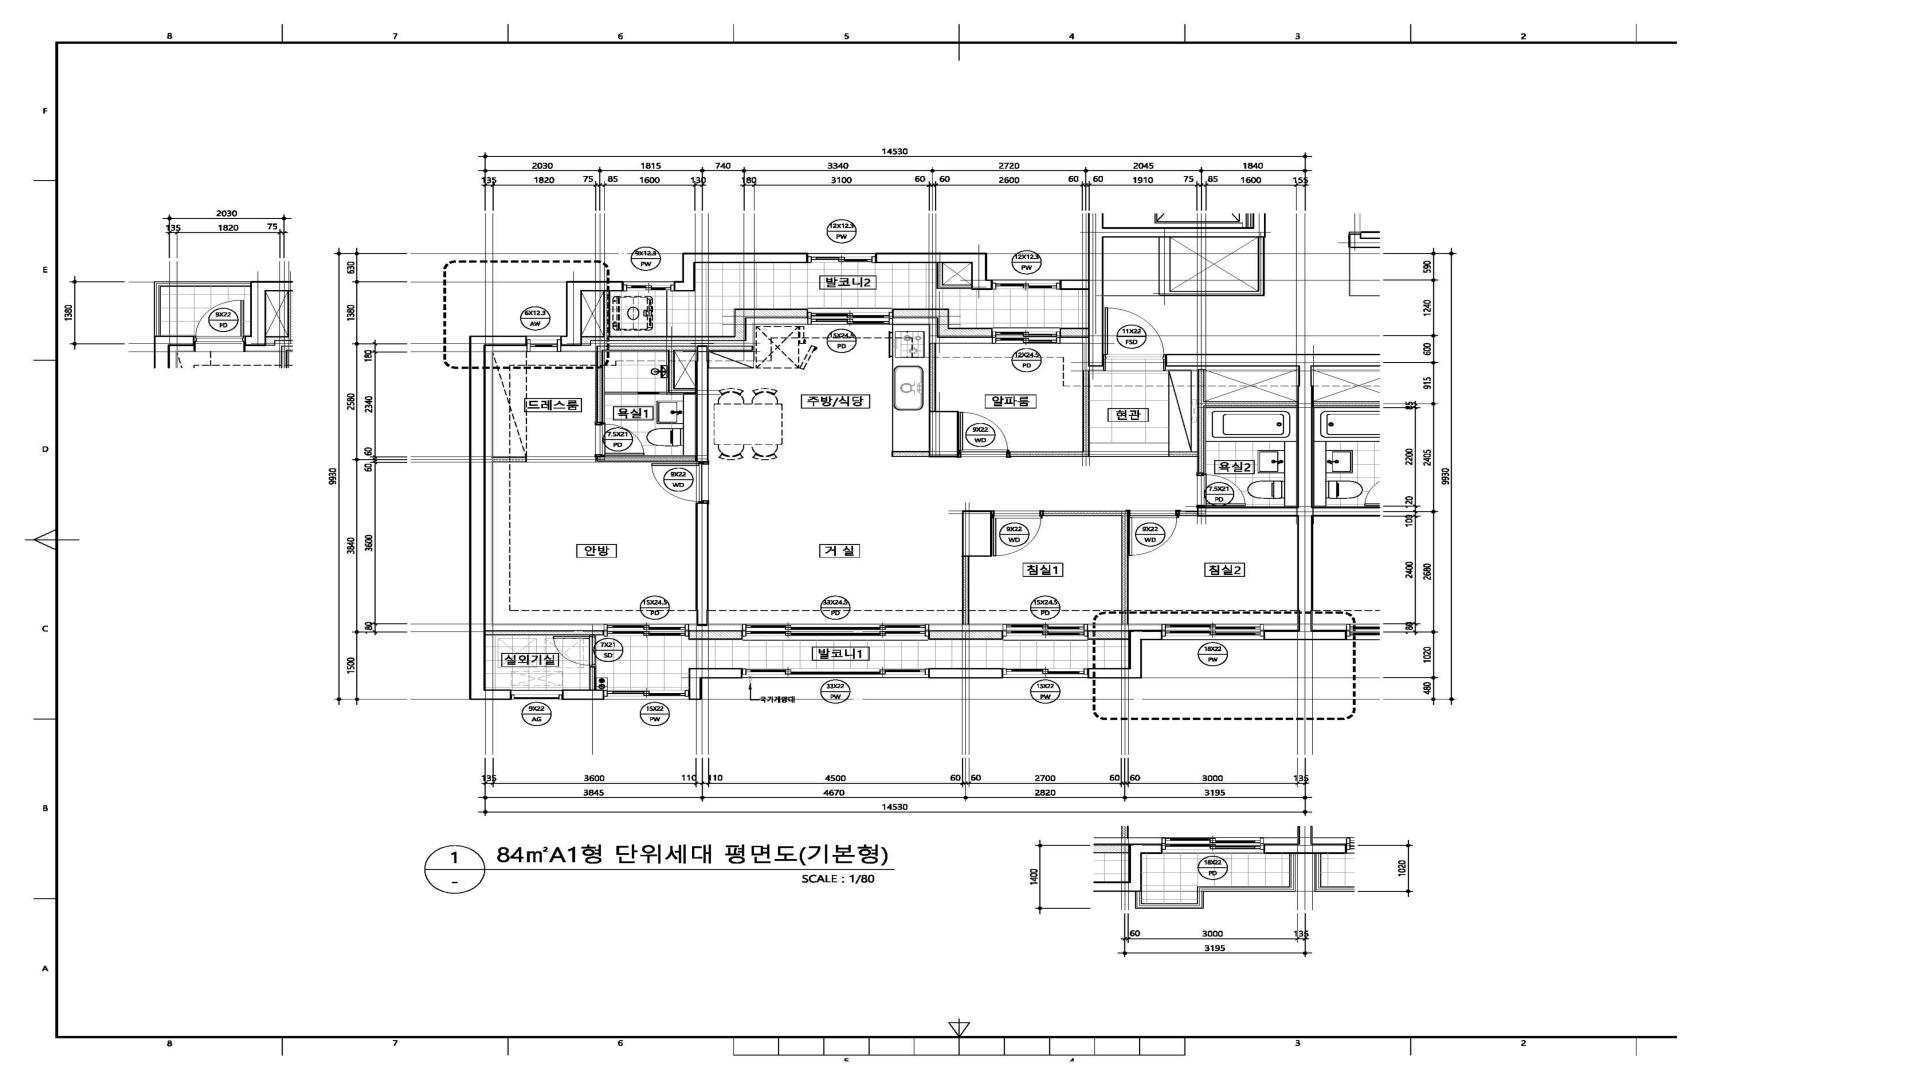background: (0, 0, 1920, 1080)
door: (1102, 307, 1166, 371), (992, 510, 1044, 556), (959, 411, 1011, 458), (651, 462, 709, 502), (1129, 510, 1180, 555), (1196, 472, 1246, 508), (595, 422, 645, 456), (553, 636, 596, 666), (526, 456, 596, 463), (605, 392, 667, 394)
wall: (469, 345, 485, 690), (1298, 367, 1313, 630), (1088, 237, 1104, 367), (1166, 353, 1312, 367), (1088, 227, 1266, 237), (695, 502, 708, 626), (928, 411, 959, 458), (696, 345, 708, 462), (963, 510, 992, 556), (682, 253, 808, 262), (562, 291, 582, 345), (874, 253, 972, 264), (1197, 508, 1298, 517), (1121, 510, 1129, 624), (938, 264, 971, 289), (928, 667, 1004, 678), (735, 309, 807, 319), (609, 336, 746, 342), (1158, 237, 1171, 291), (1158, 290, 1265, 297), (928, 630, 1002, 640), (1083, 371, 1091, 451), (485, 630, 604, 636), (674, 262, 695, 291), (566, 281, 624, 291), (469, 335, 526, 345), (688, 667, 742, 678), (928, 343, 936, 411), (1199, 369, 1204, 472), (961, 556, 969, 624), (596, 345, 695, 351), (596, 456, 695, 462), (893, 309, 948, 318), (688, 630, 742, 640), (1088, 669, 1142, 678), (1205, 401, 1298, 406), (596, 351, 603, 422), (1263, 630, 1313, 640), (949, 327, 993, 338), (971, 253, 988, 280), (469, 690, 512, 700), (562, 690, 604, 700), (1257, 237, 1265, 290), (1010, 451, 1089, 456), (1043, 510, 1121, 516), (1127, 641, 1142, 669), (1088, 630, 1127, 640), (1127, 630, 1162, 641), (688, 678, 703, 700), (1059, 280, 1088, 290), (936, 318, 949, 338), (1060, 328, 1088, 338), (669, 351, 675, 388), (891, 451, 928, 458), (708, 345, 753, 351), (603, 291, 608, 336), (492, 456, 527, 463), (582, 336, 607, 345), (972, 280, 993, 290), (735, 319, 746, 336), (1168, 451, 1197, 458), (589, 666, 596, 690), (669, 388, 698, 393), (1179, 510, 1197, 516)
window: (742, 624, 928, 641), (1162, 624, 1263, 641), (742, 669, 928, 678), (807, 307, 893, 324), (1002, 624, 1088, 641), (992, 327, 1060, 344), (604, 624, 690, 637), (1004, 669, 1088, 678), (604, 690, 688, 699), (807, 253, 876, 264), (993, 280, 1059, 290), (527, 335, 560, 352), (624, 281, 674, 291), (512, 690, 562, 699)
